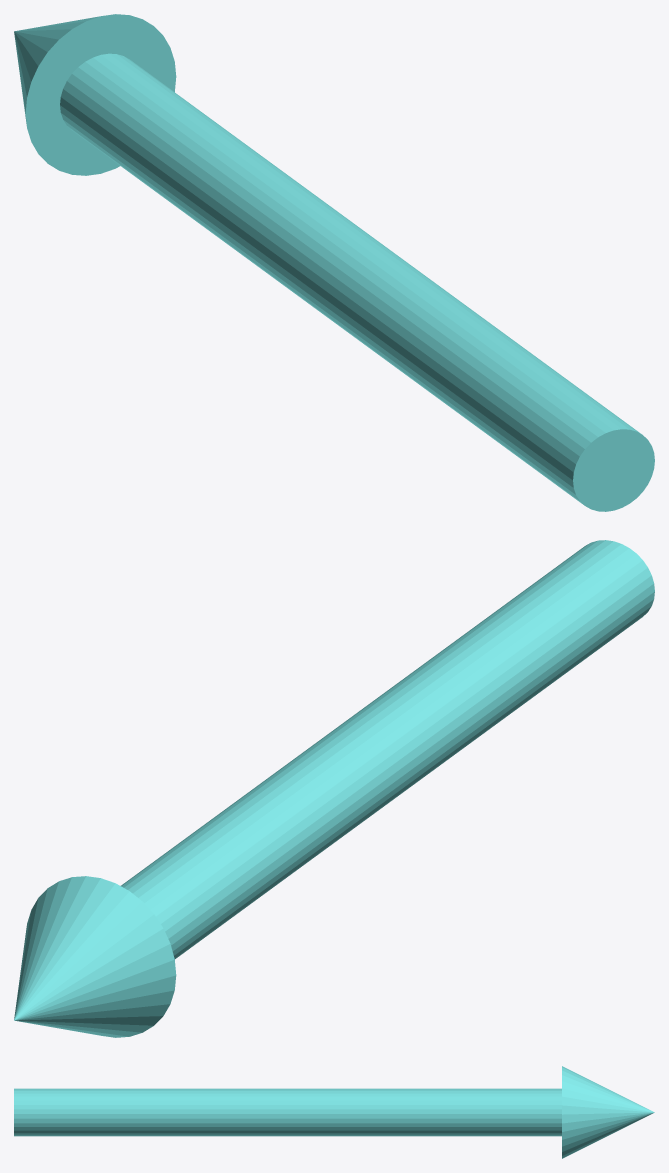
The model's file is maneuver_model.glb.
The picture shows the model from 3 angles, top to bottom: view 1: azimuth 30°, elevation 25°; view 2: azimuth 150°, elevation 25°; view 3: azimuth 270°, elevation 25°; orthographic projection. The views are drawn at different scales.
Visible parts, largest first — view 1: Cylinder, Cone; view 2: Cylinder, Cone; view 3: Cylinder, Cone.
Boxes of the visible parts, left/top/right/bottom form: Cylinder: left=60, top=53, right=654, bottom=511; Cone: left=14, top=14, right=176, bottom=175; Cylinder: left=121, top=540, right=654, bottom=959; Cone: left=14, top=876, right=176, bottom=1037; Cylinder: left=14, top=1088, right=561, bottom=1136; Cone: left=562, top=1066, right=654, bottom=1158.
Size of the model in its own units: 0.4184 by 0.4184 by 2.89.
